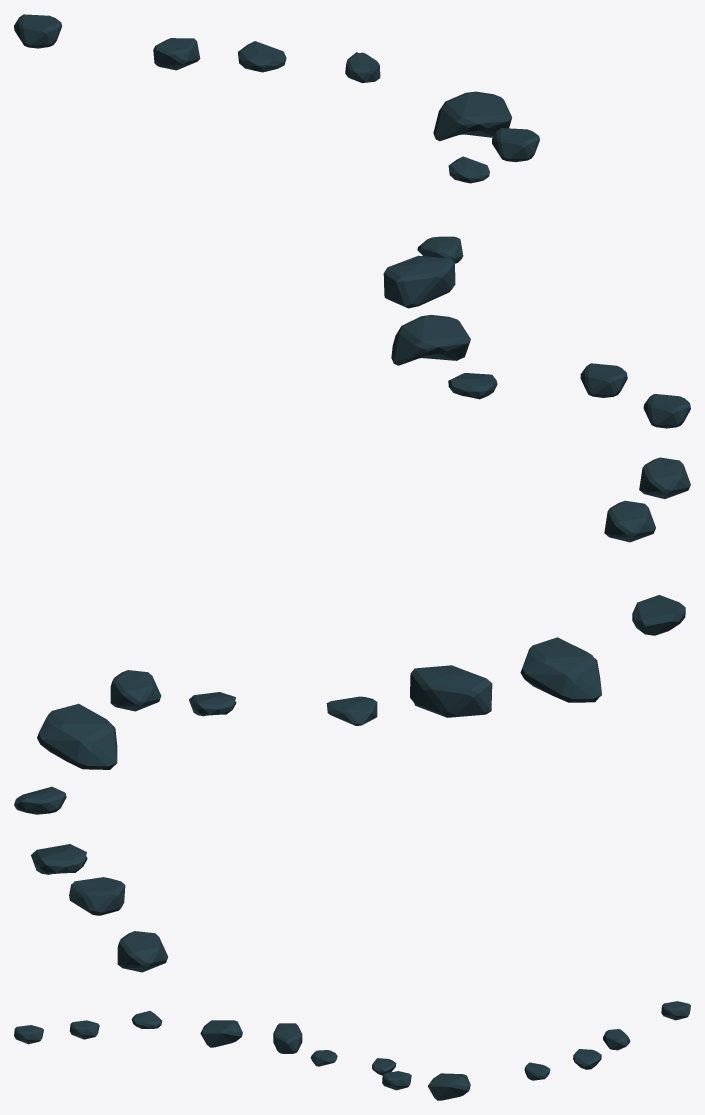
Rendered from rock2.gltf.
The picture shows the model from 3 angles, top to bottom: view 1: azimuth 30°, elevation 25°; view 2: azimuth 150°, elevation 25°; view 3: azimuth 270°, elevation 25°; orthographic projection. The views are drawn at different scales.
Parts seen in each view (by area): view 1: Icosphere.003, Icosphere.002, Icosphere.024, Icosphere.022, Icosphere.010, Icosphere.005, Icosphere.018, Icosphere.021, Icosphere.019, Icosphere.004, Icosphere.001, Icosphere.017 (+1 smaller); view 2: Icosphere.024, Icosphere.003, Icosphere.002, Icosphere.021, Icosphere.018, Icosphere.005, Icosphere.010, Icosphere.022, Icosphere.004, Icosphere.019, Icosphere.001, Icosphere.017 (+1 smaller); view 3: Icosphere.024, Icosphere.003, Icosphere.002, Icosphere.022, Icosphere.005, Icosphere.010, Icosphere.018, Icosphere.019, Icosphere.021, Icosphere.004, Icosphere.017, Icosphere.001 (+1 smaller).
Boxes of the visible parts, left/top/right/bottom form: Icosphere.003: left=391, top=315, right=470, bottom=365; Icosphere.002: left=383, top=255, right=455, bottom=308; Icosphere.024: left=433, top=91, right=511, bottom=141; Icosphere.022: left=14, top=14, right=61, bottom=48; Icosphere.010: left=492, top=128, right=539, bottom=162; Icosphere.005: left=580, top=363, right=627, bottom=397; Icosphere.018: left=643, top=394, right=690, bottom=428; Icosphere.021: left=153, top=38, right=200, bottom=70; Icosphere.019: left=238, top=41, right=286, bottom=72; Icosphere.004: left=448, top=373, right=497, bottom=399; Icosphere.001: left=417, top=236, right=463, bottom=263; Icosphere.017: left=345, top=52, right=380, bottom=82; Icosphere.024: left=37, top=703, right=117, bottom=769; Icosphere.003: left=520, top=637, right=601, bottom=702; Icosphere.002: left=410, top=665, right=492, bottom=717; Icosphere.021: left=69, top=877, right=125, bottom=915; Icosphere.018: left=639, top=457, right=690, bottom=498; Icosphere.005: left=604, top=500, right=655, bottom=542; Icosphere.010: left=110, top=670, right=161, bottom=711; Icosphere.022: left=117, top=931, right=167, bottom=972; Icosphere.004: left=632, top=595, right=685, bottom=635; Icosphere.019: left=31, top=844, right=87, bottom=874; Icosphere.001: left=326, top=696, right=377, bottom=725; Icosphere.017: left=14, top=786, right=66, bottom=814; Icosphere.024: left=428, top=1073, right=470, bottom=1100; Icosphere.003: left=200, top=1020, right=242, bottom=1047; Icosphere.002: left=273, top=1023, right=302, bottom=1053; Icosphere.022: left=661, top=1001, right=690, bottom=1020; Icosphere.005: left=69, top=1020, right=99, bottom=1039; Icosphere.010: left=382, top=1071, right=411, bottom=1090; Icosphere.018: left=14, top=1025, right=43, bottom=1044; Icosphere.019: left=573, top=1049, right=601, bottom=1069; Icosphere.021: left=603, top=1029, right=630, bottom=1050; Icosphere.004: left=131, top=1011, right=162, bottom=1028; Icosphere.017: left=524, top=1062, right=550, bottom=1080; Icosphere.001: left=310, top=1050, right=337, bottom=1066.
Size of the model in its own units: 10.88 by 2.03 by 35.
